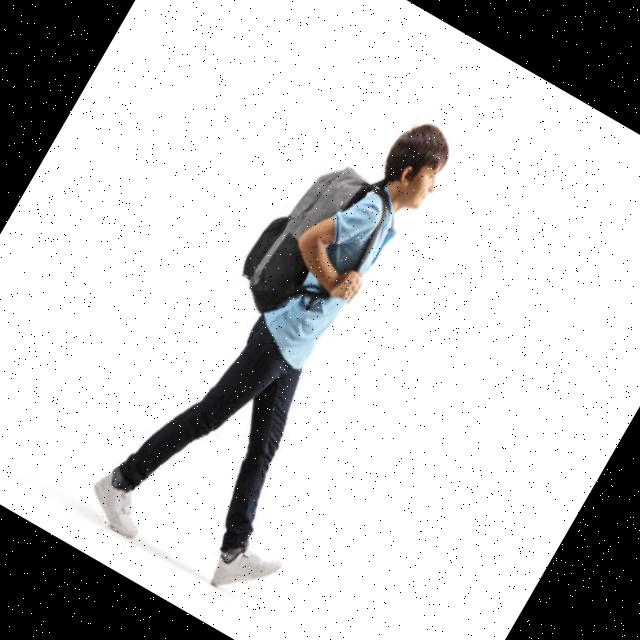Person: (80, 67, 510, 612)
